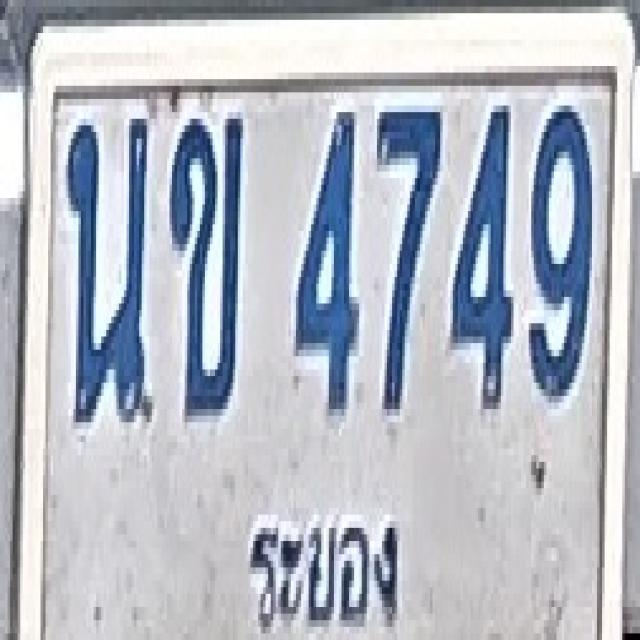-: (64, 112, 148, 422), (169, 112, 243, 416)
4: (449, 99, 512, 409), (294, 106, 356, 416)
7: (376, 106, 442, 416)
9: (529, 102, 592, 399)
RYG: (240, 502, 405, 638)
